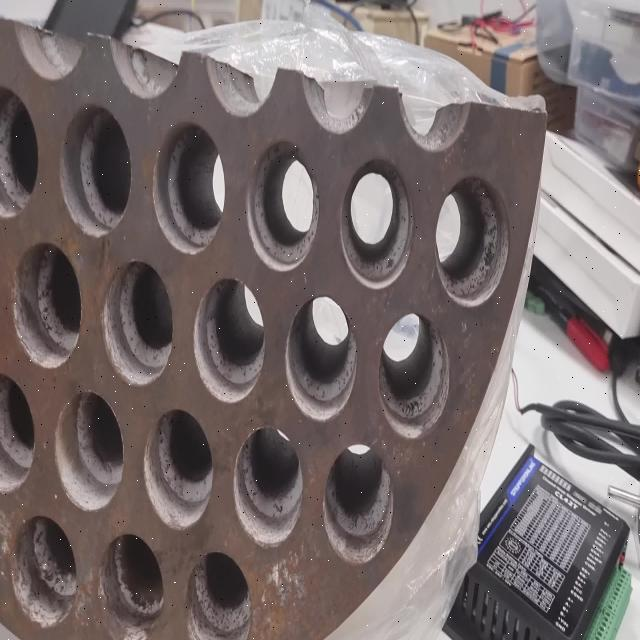Hole: (435, 173, 510, 307), (152, 120, 225, 256), (246, 138, 320, 272), (59, 102, 132, 236), (340, 155, 413, 289), (284, 294, 358, 423), (101, 259, 174, 386), (11, 241, 83, 369), (193, 276, 265, 404), (378, 311, 449, 439), (54, 389, 125, 512), (143, 407, 214, 530), (233, 424, 303, 548), (323, 442, 394, 564), (10, 513, 78, 627), (99, 531, 165, 638), (186, 550, 252, 640), (0, 82, 40, 218), (0, 370, 36, 495)
